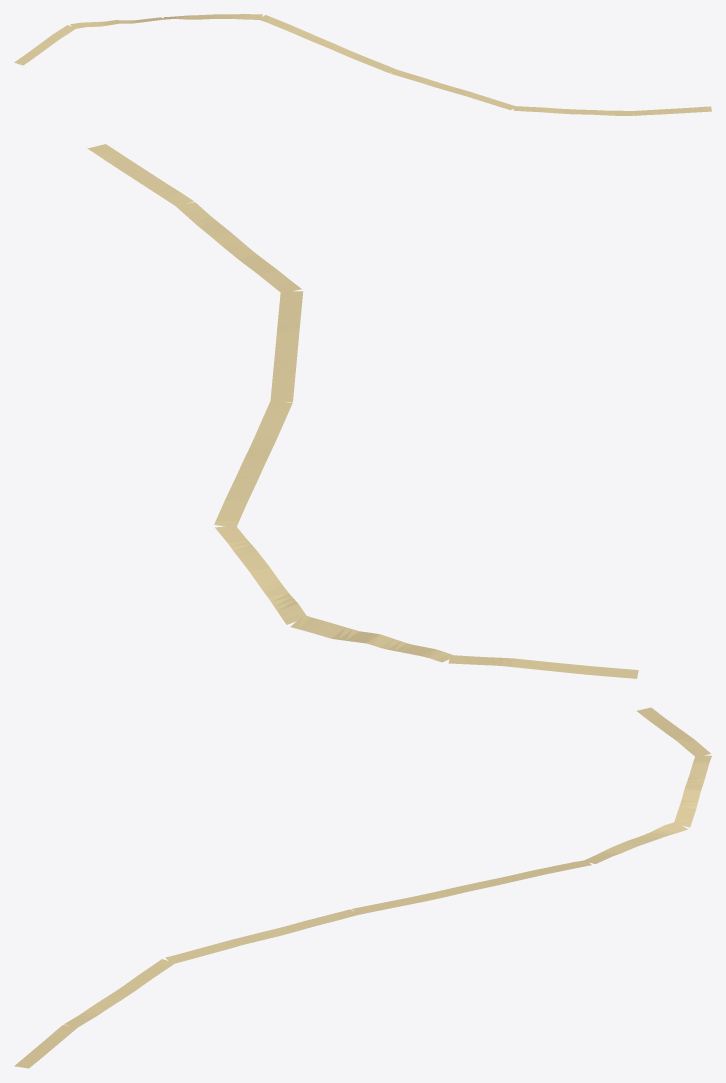
The model's file is Trail_11.glb.
3 renders of one model, top to bottom at view 1: azimuth 30°, elevation 25°; view 2: azimuth 150°, elevation 25°; view 3: azimuth 270°, elevation 25°, orthographic. The views are drawn at different scales.
Parts seen in each view (by area): view 1: Trail_11; view 2: Trail_11; view 3: Trail_11.
Boxes of the visible parts, x1=… form: Trail_11: x1=14, y1=14, x2=711, y2=115; Trail_11: x1=87, y1=144, x2=638, y2=678; Trail_11: x1=14, y1=707, x2=711, y2=1068.
Bounding box in the file's own units: 87.15 × 2.79 × 73.55.
